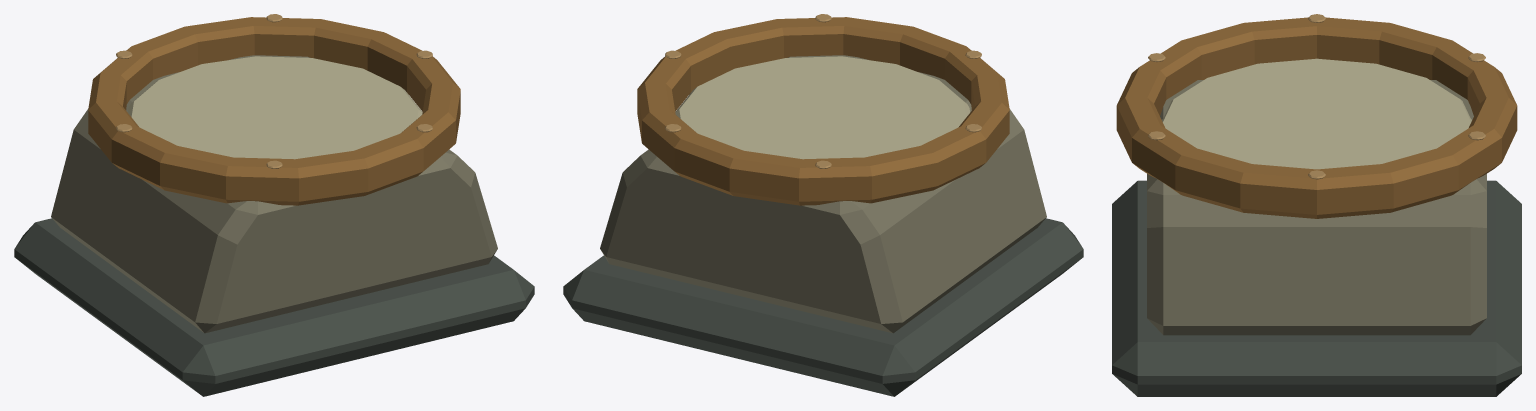
File: VAULT_TREASURE_PLINTH.lo.glb
3 views of the same model, side by side, from view 1: azimuth 30°, elevation 25°; view 2: azimuth 150°, elevation 25°; view 3: azimuth 270°, elevation 25° (orthographic). The views are drawn at different scales.
Visible parts, largest first — view 1: Body_Mesh; view 2: Body_Mesh; view 3: Body_Mesh.
Boxes of the visible parts, box(x1,y1,x2,y2) form: Body_Mesh: box(14, 14, 534, 396); Body_Mesh: box(563, 14, 1083, 396); Body_Mesh: box(1112, 14, 1521, 396).
Bounding box in the file's own units: 0.93 × 0.523 × 0.88.
